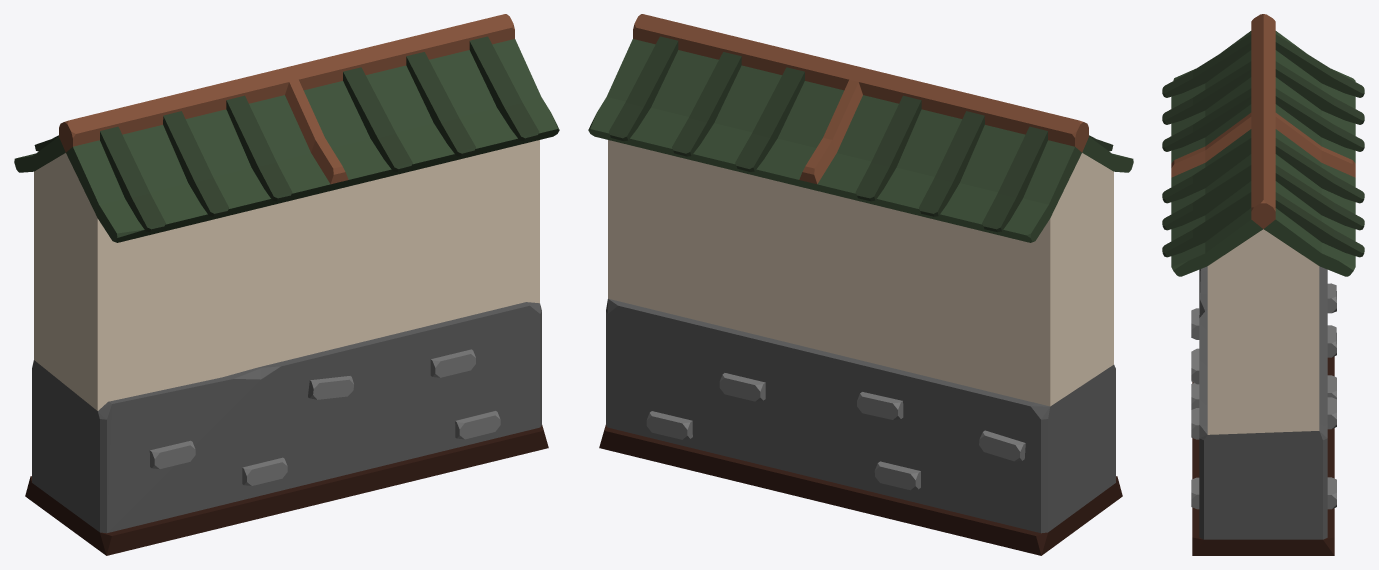
Rendered from GardenWall_3 Asia.fbx.
3 views of the same model, side by side, from view 1: azimuth 30°, elevation 25°; view 2: azimuth 150°, elevation 25°; view 3: azimuth 270°, elevation 25° (orthographic). The views are drawn at different scales.
Parts seen in each view (by area): view 1: GardenWall_3; view 2: GardenWall_3; view 3: GardenWall_3.
Part boxes in pixels (x1,y1,x2,y2): GardenWall_3: (14, 14, 559, 555); GardenWall_3: (588, 14, 1133, 555); GardenWall_3: (1162, 14, 1364, 555).
Size of the model in its own units: 3.23 by 2.82 by 1.46.
